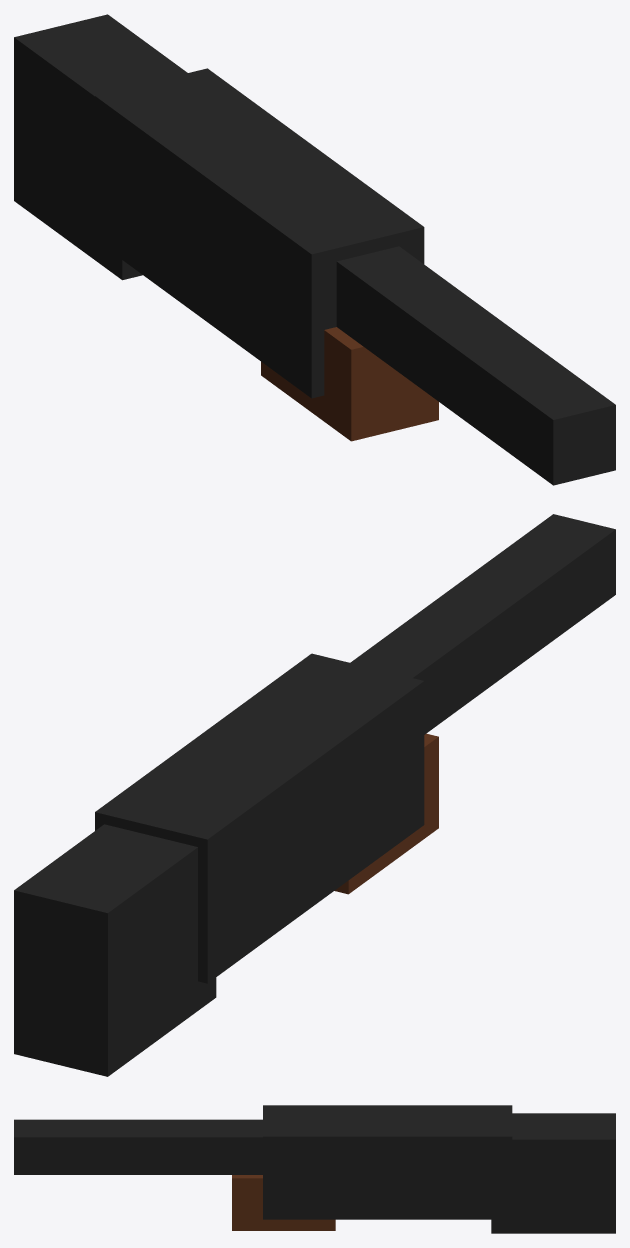
Rendered from gun-nova.glb.
The picture shows the model from 3 angles, top to bottom: view 1: azimuth 30°, elevation 25°; view 2: azimuth 150°, elevation 25°; view 3: azimuth 270°, elevation 25°; orthographic projection. The views are drawn at different scales.
Parts seen in each view (by area): view 1: nova; view 2: nova; view 3: nova.
Boxes of the visible parts, <box> form: nova: <box>14,14,615,485</box>; nova: <box>14,514,615,1076</box>; nova: <box>14,1105,615,1233</box>.
Size of the model in its own units: 0.18 by 0.265 by 1.45.
